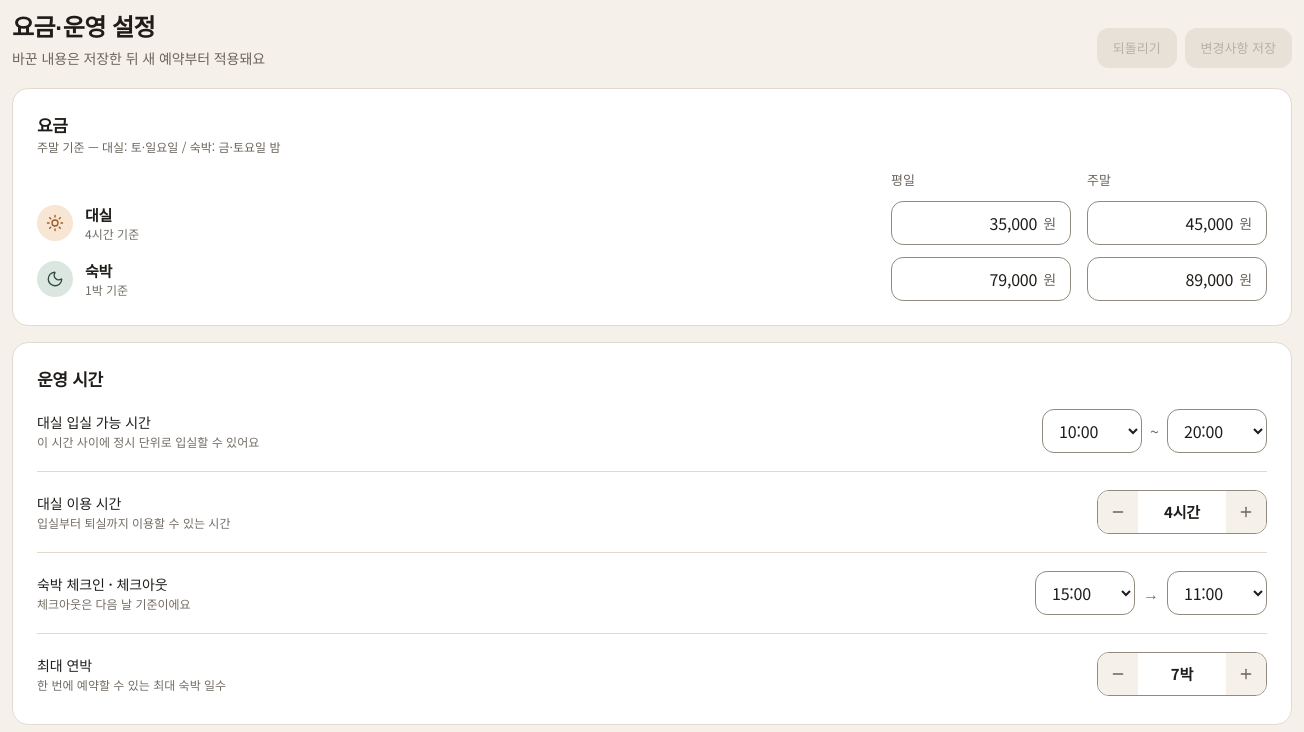
Test: SettingsForm › revert restores the server values
Step 1. Click the button named "최대 연박 늘리기" → (1246, 674), box [1226,653,1266,695]
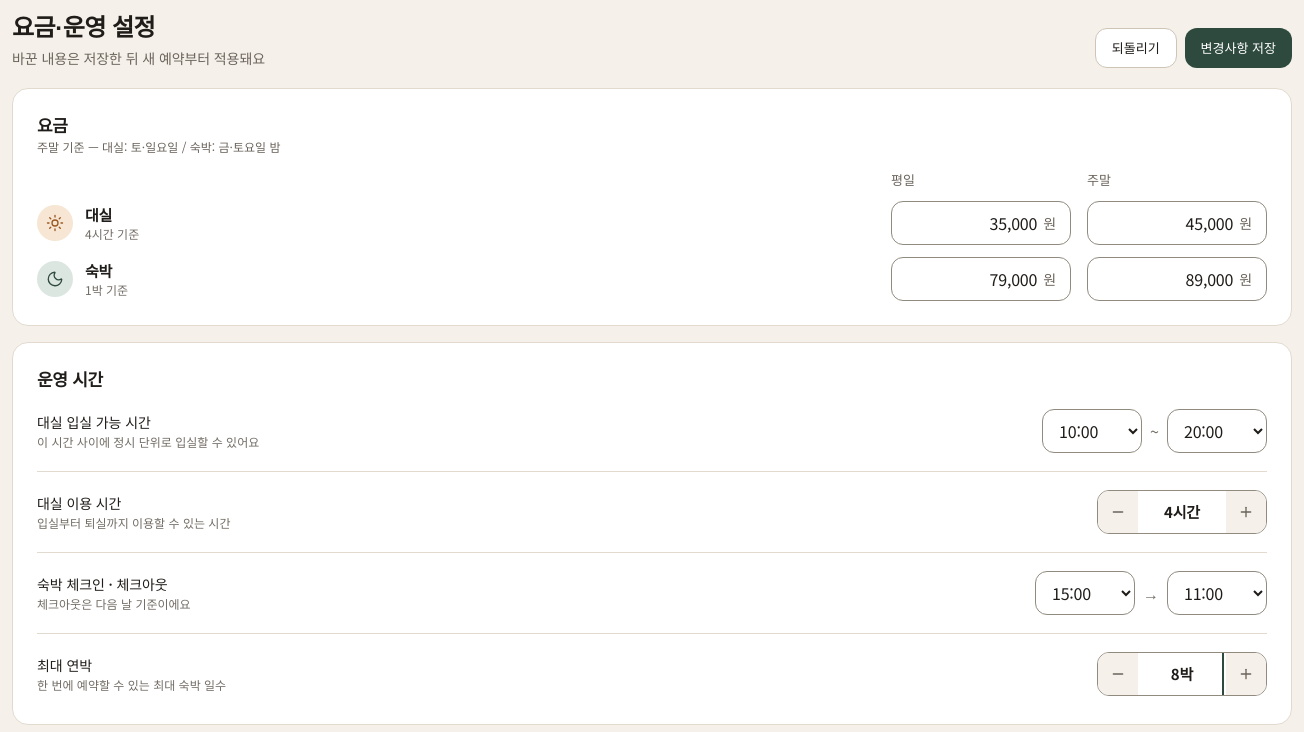
Check: the text "8박" is shown, box [1171,663,1193,684]
Step 2. Click the button "되돌리기" → (1136, 48), box [1095,28,1177,68]
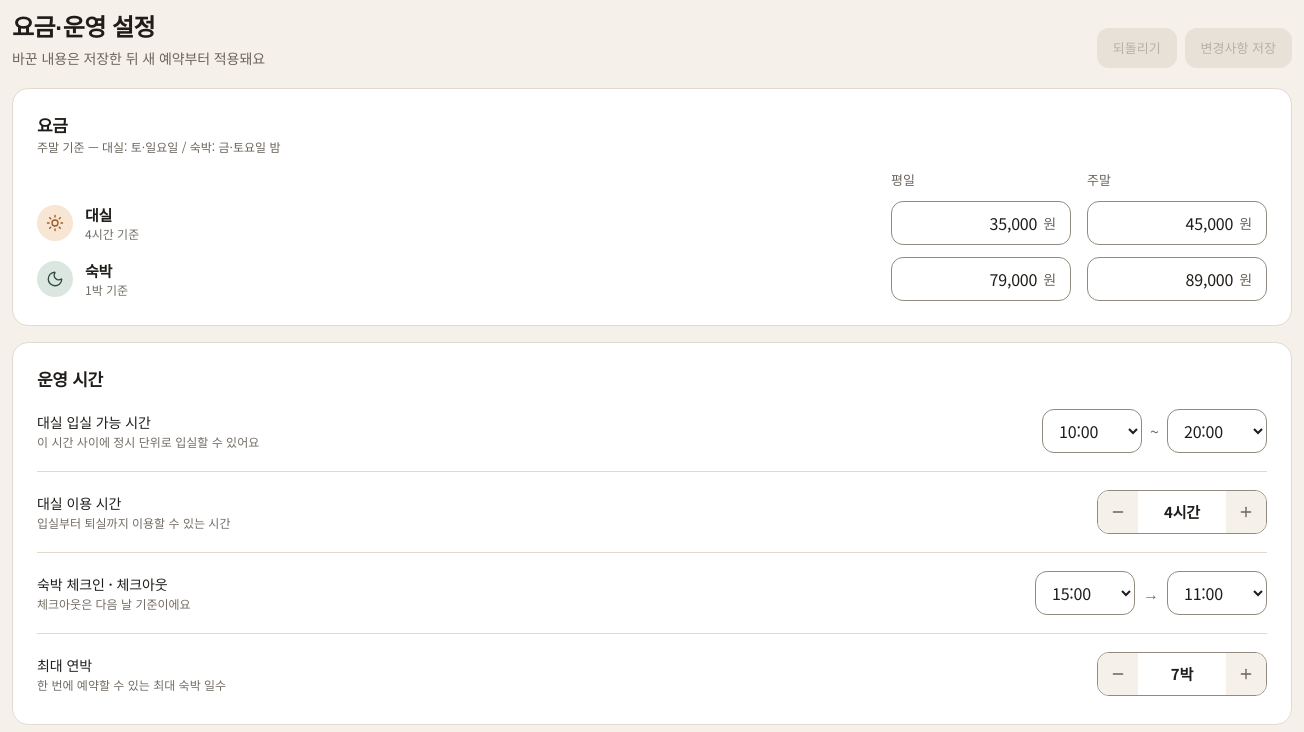
Check: the text "7박" is shown, box [1171,663,1193,684]
Check: the button "변경사항 저장" is disabled, box [1185,28,1292,68]
